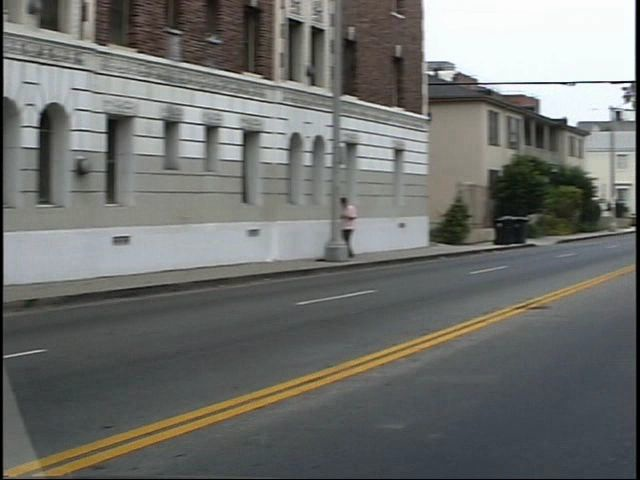person: (356, 190, 380, 259)
